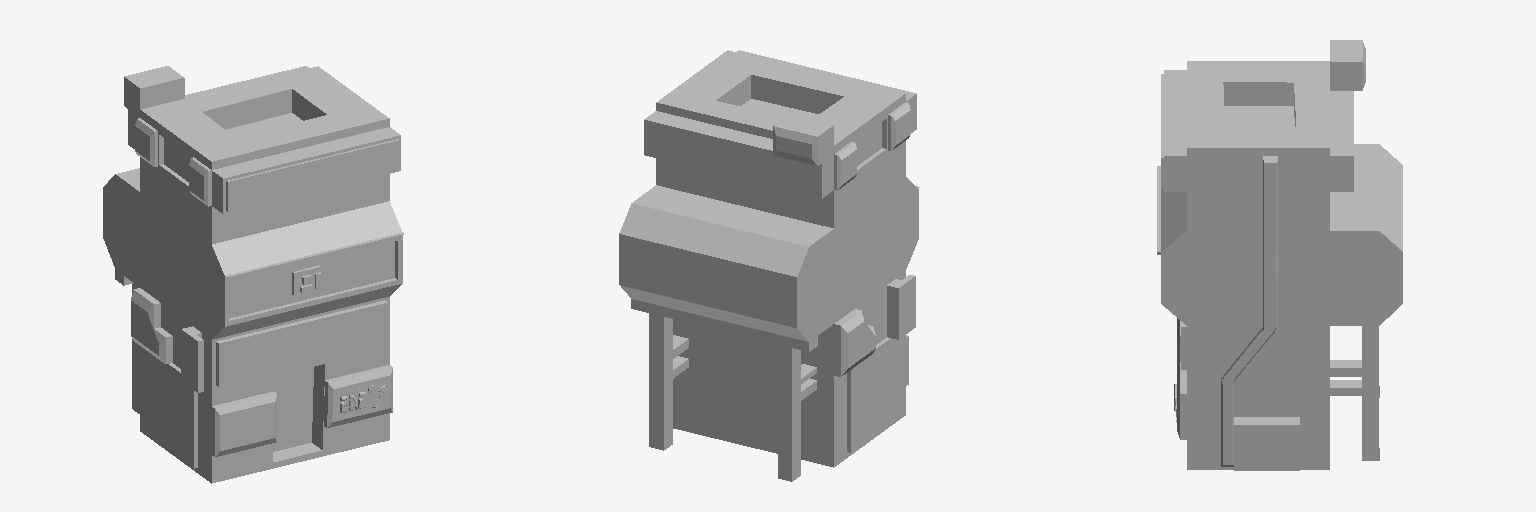
File: Building02.obj
The picture shows the model from 3 angles: view 1: azimuth 30°, elevation 25°; view 2: azimuth 150°, elevation 25°; view 3: azimuth 270°, elevation 25°; orthographic projection.
Visible parts, largest first — view 1: Cube; view 2: Cube; view 3: Cube.
Part boxes in pixels (bbox=[...]): Cube: bbox=[103, 66, 403, 483]; Cube: bbox=[619, 50, 919, 481]; Cube: bbox=[1157, 40, 1402, 470].
Size of the model in its own units: 10.32 by 16.46 by 10.73.